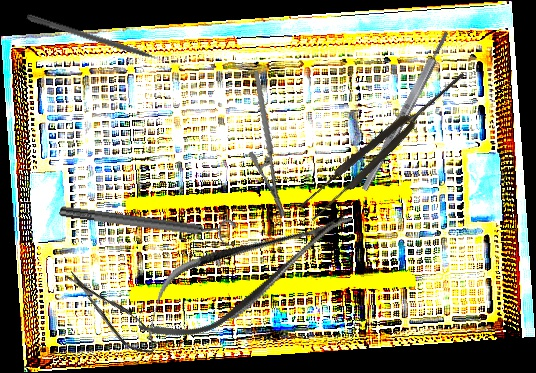Fixation Ring: (57, 195, 239, 249)
Micro Scissor: (121, 184, 370, 362), (60, 261, 163, 363)
Needle Holder: (232, 70, 308, 218)
Pusher: (25, 13, 176, 69)
Scalpel Handle: (358, 29, 453, 193)
Tissue Forceps: (297, 65, 473, 223)
